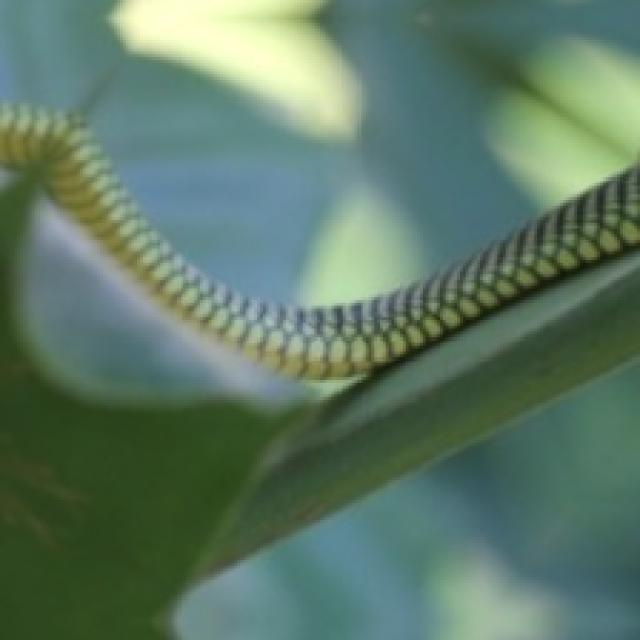paradise tree snake: (0, 103, 637, 377)
